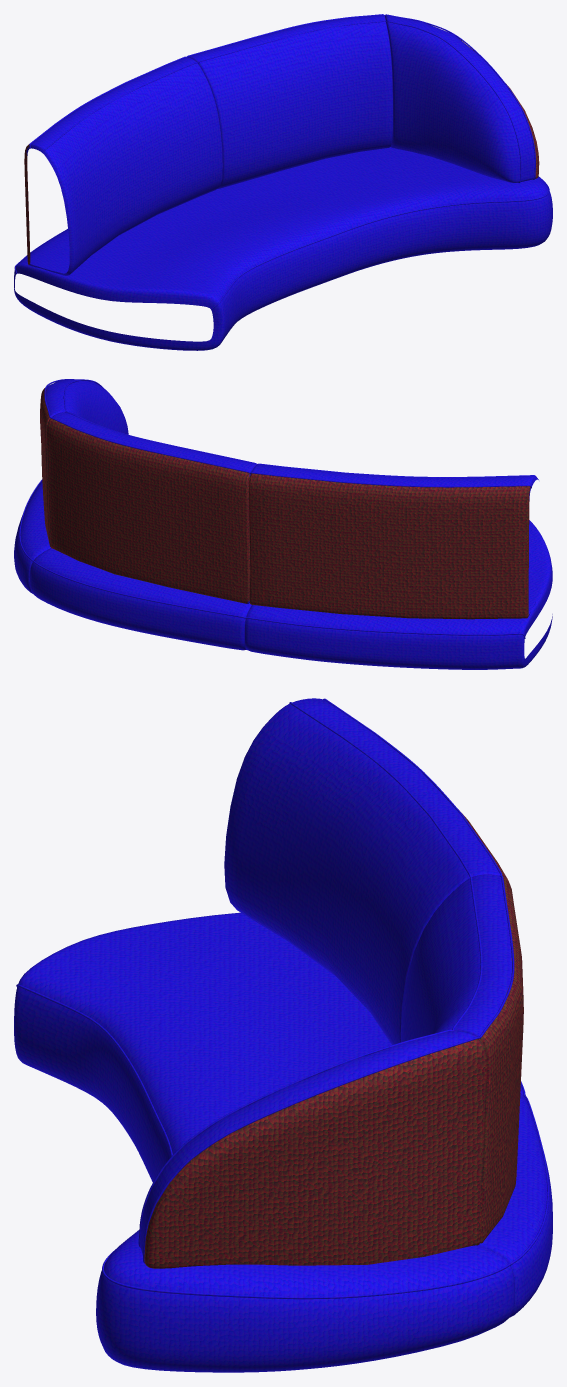
File: levante_m_male_mirror.gltf
The picture shows the model from 3 angles, top to bottom: view 1: azimuth 30°, elevation 25°; view 2: azimuth 150°, elevation 25°; view 3: azimuth 270°, elevation 25°; orthographic projection. The views are drawn at different scales.
Visible parts, largest first — view 1: levante_m_male001; view 2: levante_m_male001; view 3: levante_m_male001.
Boxes of the visible parts, <box> form: levante_m_male001: <box>14,14,552,350</box>; levante_m_male001: <box>14,379,552,669</box>; levante_m_male001: <box>14,698,552,1372</box>.
Size of the model in its own units: 2.02 by 0.6903 by 1.15.
Materials: 2 (2 with a texture image).
